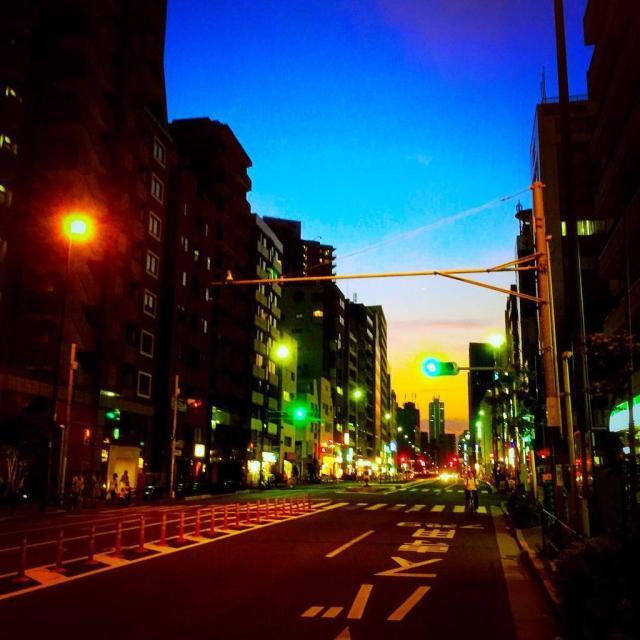traffic light: (424, 360, 458, 375)
